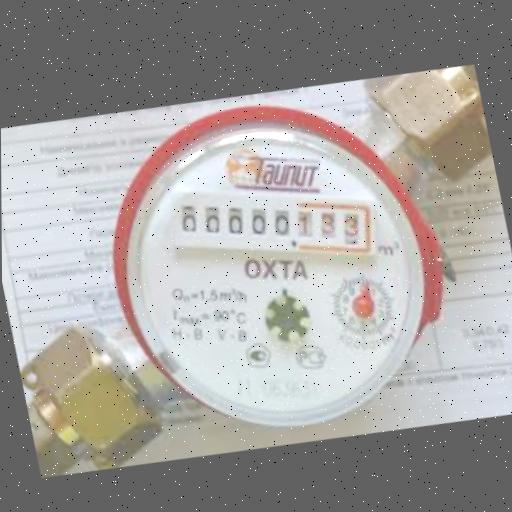0: (244, 203, 272, 240), (222, 202, 249, 239), (199, 202, 226, 238), (268, 204, 295, 240), (176, 201, 202, 237)
1: (291, 205, 318, 241)
3: (335, 205, 367, 251), (313, 205, 341, 242)
border_water_meter_number: (162, 152, 383, 293)
